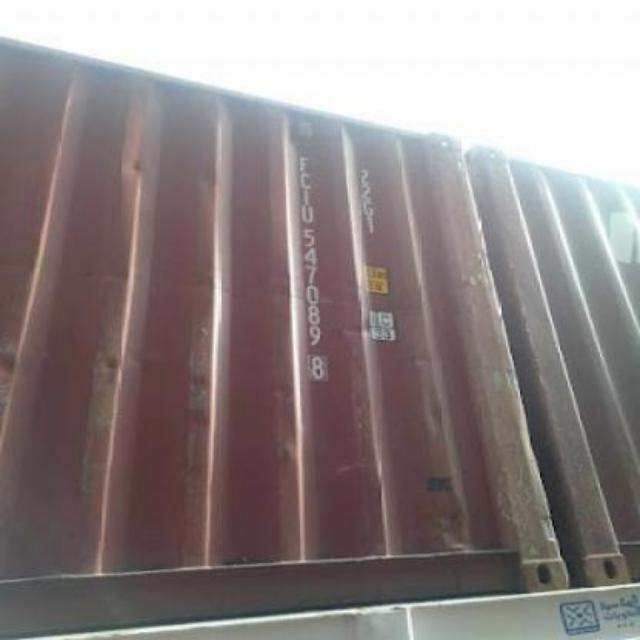0: (304, 284, 320, 306)
4: (303, 248, 317, 266)
5: (302, 228, 316, 248)
7: (304, 266, 318, 284)
8: (308, 356, 328, 380), (306, 304, 320, 326)
9: (308, 324, 322, 348)
C: (299, 172, 313, 190)
F: (298, 156, 310, 172)
I: (298, 190, 312, 207)
U: (298, 205, 316, 222)
